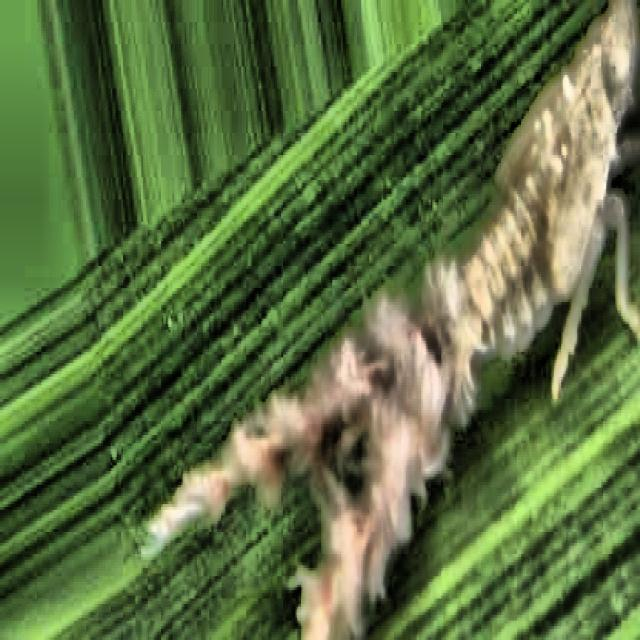Pyrilla-perpusilla: (180, 3, 638, 640)
